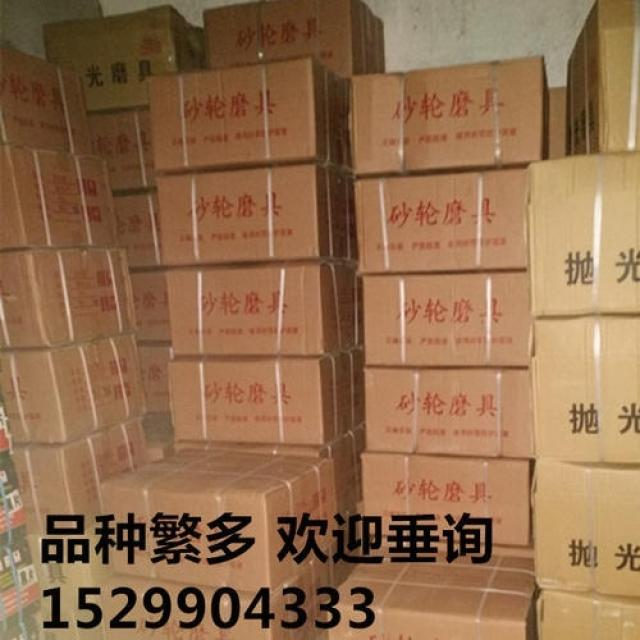box: (101, 447, 340, 594), (93, 536, 346, 640), (348, 56, 550, 178), (145, 56, 351, 175), (175, 428, 365, 539), (329, 539, 535, 640), (156, 165, 358, 268), (161, 259, 365, 358), (522, 152, 640, 320), (169, 346, 362, 443), (352, 172, 530, 275), (42, 3, 210, 111), (364, 451, 536, 549), (0, 330, 145, 444), (361, 270, 532, 365), (10, 419, 146, 536), (364, 365, 535, 458), (535, 314, 640, 463), (530, 460, 640, 594), (202, 0, 387, 76), (0, 246, 136, 347), (0, 143, 120, 252), (566, 0, 640, 159), (0, 45, 95, 151), (28, 530, 110, 640), (90, 105, 157, 189), (534, 590, 640, 640), (110, 187, 163, 268), (128, 266, 173, 343), (0, 526, 38, 616), (137, 340, 172, 412), (0, 457, 28, 535), (0, 599, 49, 640)
